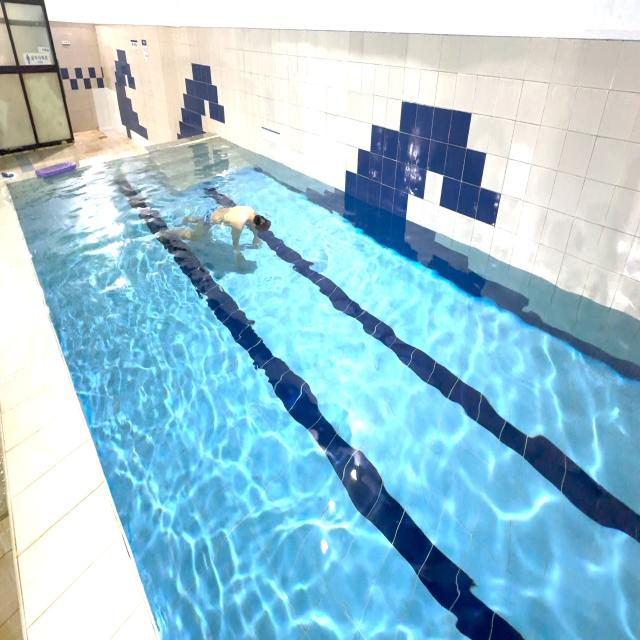Swimming: (157, 180, 276, 277)
